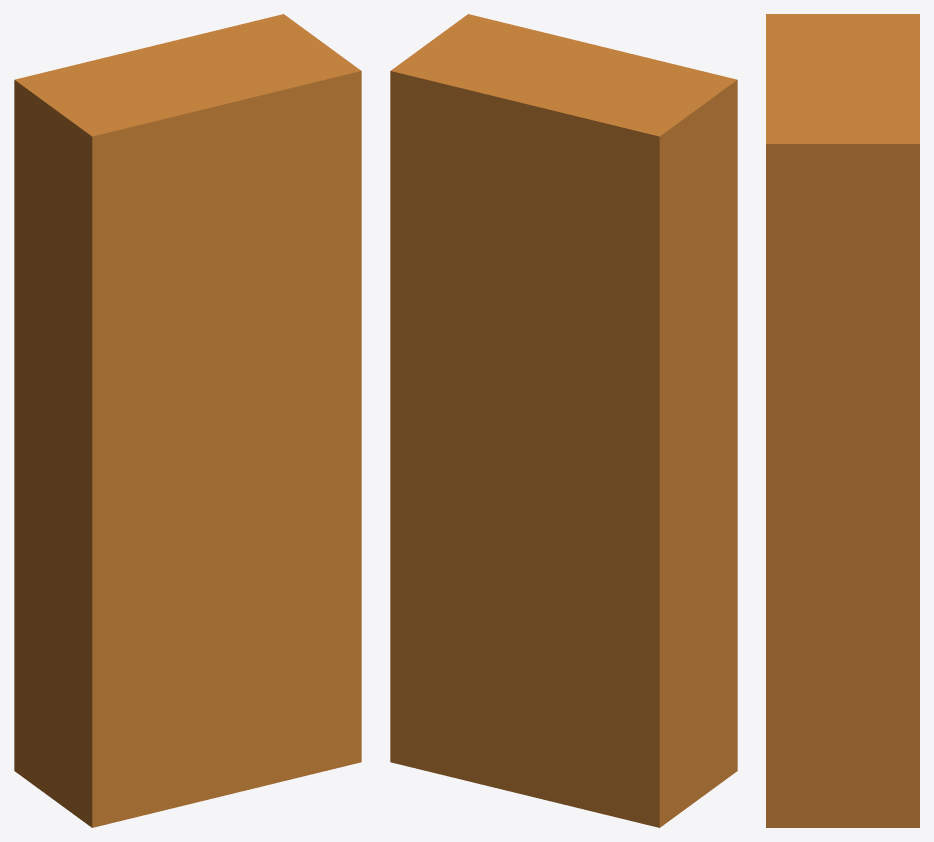
The picture shows the model from 3 angles, left to right: view 1: azimuth 30°, elevation 25°; view 2: azimuth 150°, elevation 25°; view 3: azimuth 270°, elevation 25°; orthographic projection.
Parts seen in each view (by area): view 1: L4-6-S9-3DF-M13; view 2: L4-6-S9-3DF-M13; view 3: L4-6-S9-3DF-M13.
Part boxes in pixels (x1,y1,x2,y2): L4-6-S9-3DF-M13: (14, 14, 361, 827); L4-6-S9-3DF-M13: (390, 14, 737, 827); L4-6-S9-3DF-M13: (766, 14, 919, 827).
Bounding box in the file's own units: 0.09 × 0.2208 × 0.045.
